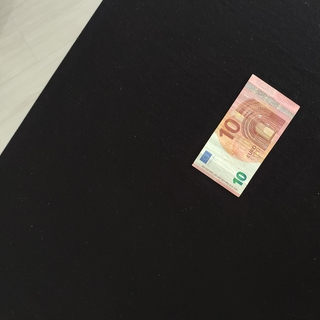10EUROFront: (191, 73, 300, 198)
